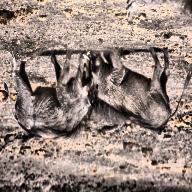boar: (86, 48, 192, 132), (4, 50, 95, 141)
